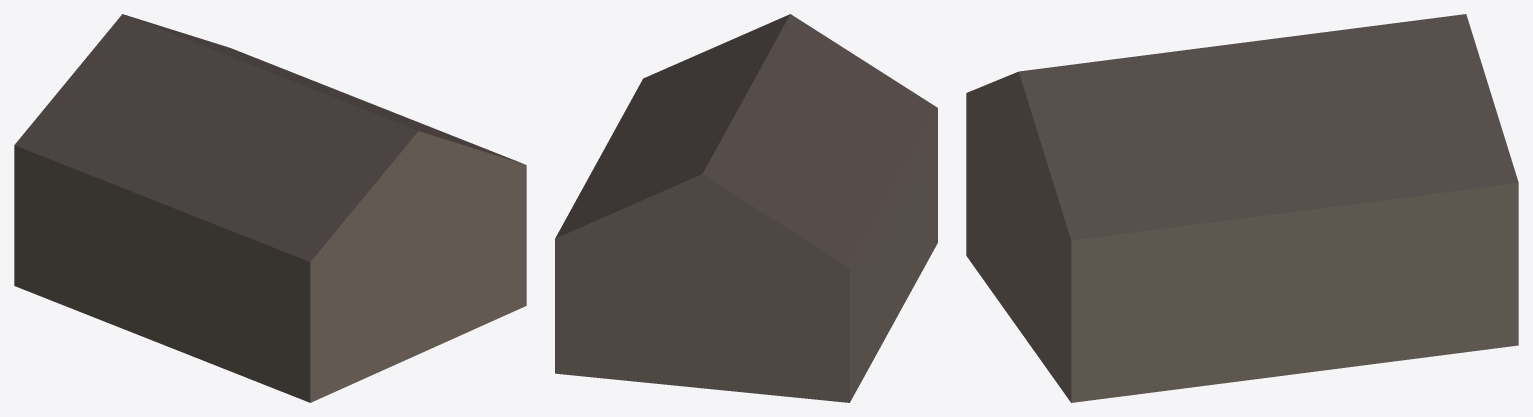
The picture shows the model from 3 angles, left to right: view 1: azimuth 30°, elevation 25°; view 2: azimuth 150°, elevation 25°; view 3: azimuth 270°, elevation 25°; orthographic projection. The views are drawn at different scales.
Visible parts, largest first — view 1: HP-w369317508; view 2: HP-w369317508; view 3: HP-w369317508.
Boxes of the visible parts, left/top/right/bottom form: HP-w369317508: left=14, top=14, right=526, bottom=402; HP-w369317508: left=555, top=14, right=937, bottom=402; HP-w369317508: left=966, top=14, right=1518, bottom=402.
Size of the model in its own units: 16.23 by 9.52 by 18.49.
